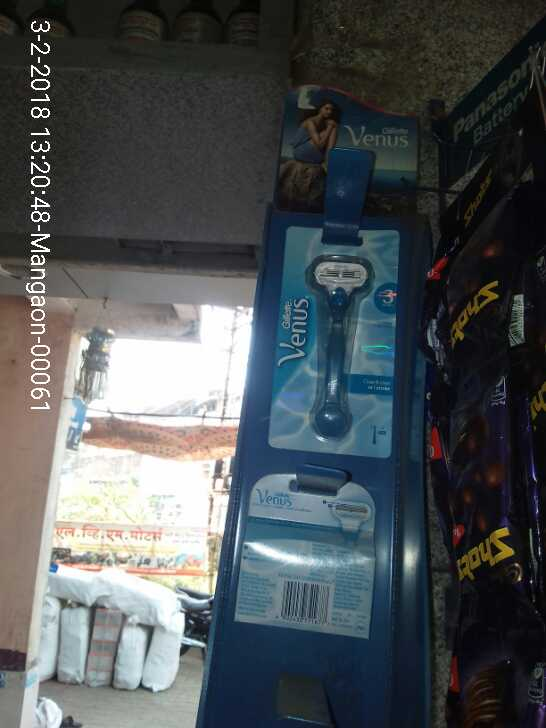venus: (266, 213, 401, 453)
